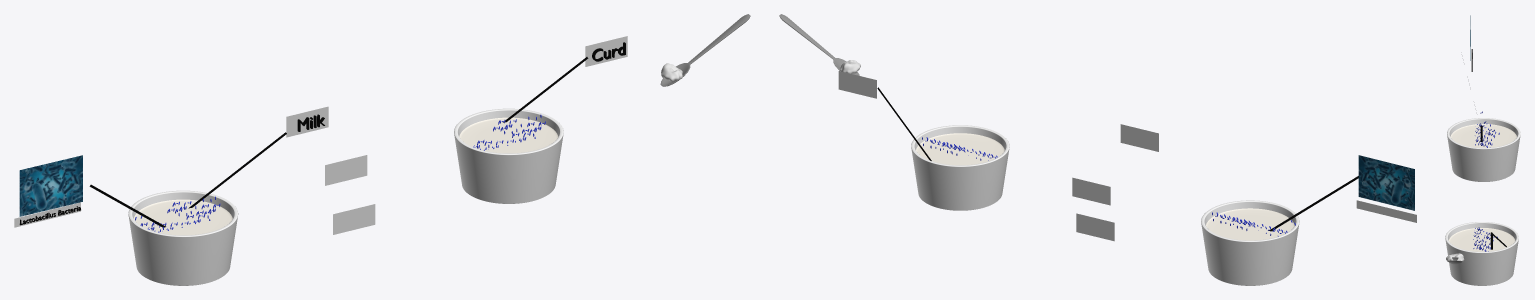
File: milkcurd.gltf
3 views of the same model, side by side, from view 1: azimuth 30°, elevation 25°; view 2: azimuth 150°, elevation 25°; view 3: azimuth 270°, elevation 25° (orthographic). The views are drawn at different scales.
Parts seen in each view (by area): view 1: Glass_of_Milk_Glass_0, Glass_of_Milk_Glass_0.001, lactobacillus.001, Glass_of_Milk_Milk_0, Glass_of_Milk_Milk_0.001, Plane.058, Plane.057, Plane.053, Plane.054, Spoon, Plane.056; view 2: Glass_of_Milk_Glass_0, Glass_of_Milk_Glass_0.001, lactobacillus.001, Glass_of_Milk_Milk_0, Glass_of_Milk_Milk_0.001, Plane.057, Plane.058, Plane.053, Plane.054, Plane.056, Spoon; view 3: Glass_of_Milk_Glass_0.001, Glass_of_Milk_Glass_0, Glass_of_Milk_Milk_0.001, Glass_of_Milk_Milk_0, cream_cupcake_0, Spoon.
Part boxes in pixels (x1,y1,x2,y2): Glass_of_Milk_Glass_0: (454,108,563,203); Glass_of_Milk_Glass_0.001: (128,190,238,285); lactobacillus.001: (19,155,82,216); Glass_of_Milk_Milk_0: (459,117,558,153); Glass_of_Milk_Milk_0.001: (134,199,232,235); Plane.058: (325,155,367,185); Plane.057: (333,204,375,234); Plane.053: (286,106,328,137); Plane.054: (585,36,627,66); Spoon: (660,14,750,86); Plane.056: (14,202,80,227); Glass_of_Milk_Glass_0: (911,125,1009,210); Glass_of_Milk_Glass_0.001: (1201,200,1299,285); lactobacillus.001: (1358,155,1414,210); Glass_of_Milk_Milk_0: (916,133,1004,165); Glass_of_Milk_Milk_0.001: (1206,208,1294,240); Plane.057: (1076,213,1114,241); Plane.058: (1072,177,1110,205); Plane.053: (1120,124,1158,151); Plane.054: (838,71,876,98); Plane.056: (1356,200,1416,222); Spoon: (779,14,859,75); Glass_of_Milk_Glass_0.001: (1447,118,1520,181); Glass_of_Milk_Glass_0: (1445,222,1518,285); Glass_of_Milk_Milk_0.001: (1450,124,1516,147); Glass_of_Milk_Milk_0: (1449,228,1515,251); cream_cupcake_0: (1446,253,1464,261); Spoon: (1448,257,1462,264).
Size of the model in its own units: 3.04 by 0.6091 by 0.4083.
Materials: 8 (1 with a texture image).
